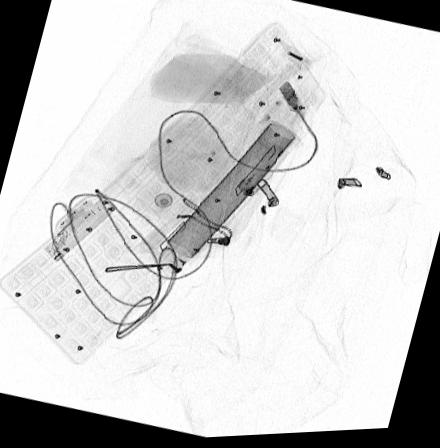Lighter: (234, 149, 291, 200)
